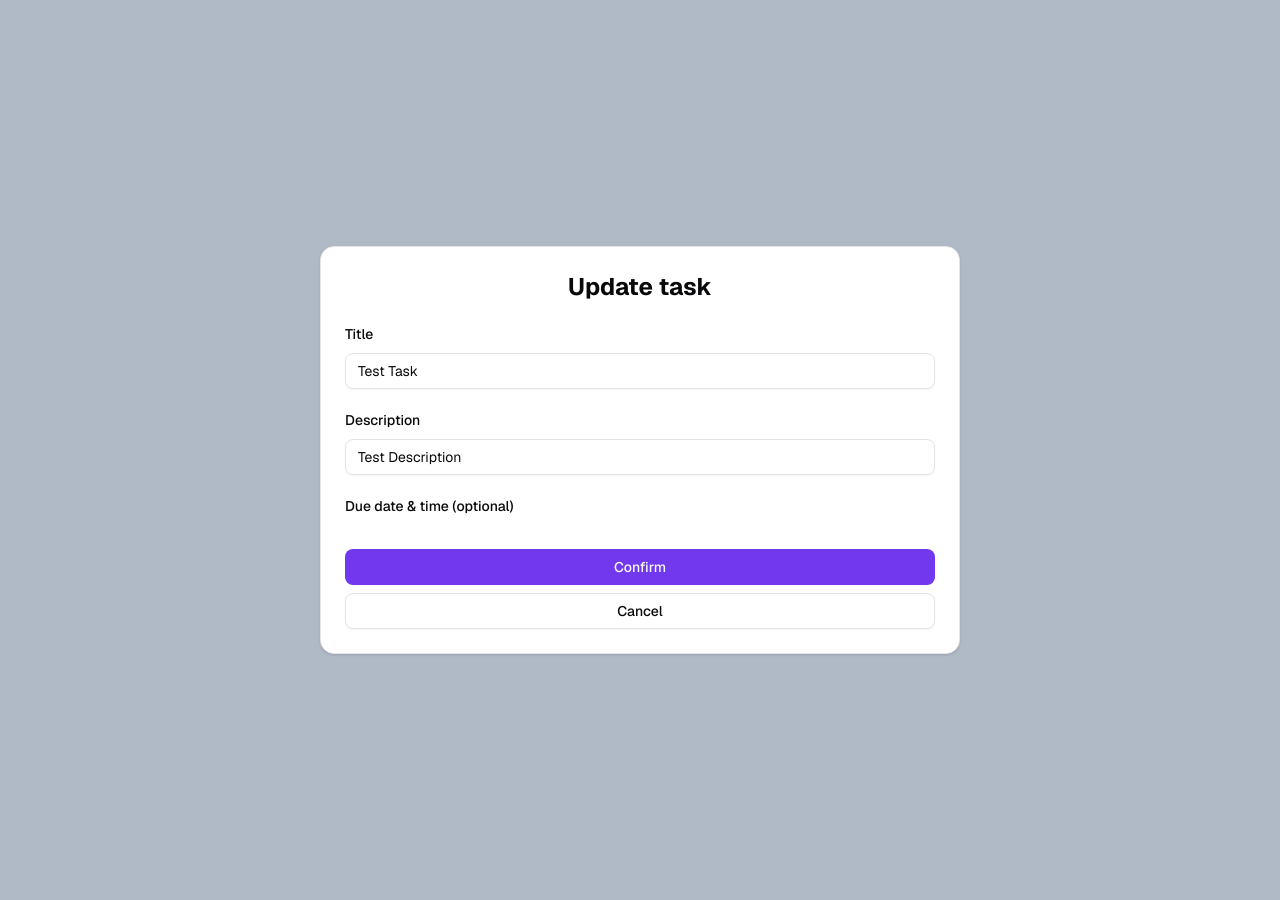
Test: EditTaskModal Component › shows validation error for empty title
Clear the field showing "Test Task". click: (640, 371)
box: [345,353,935,389]
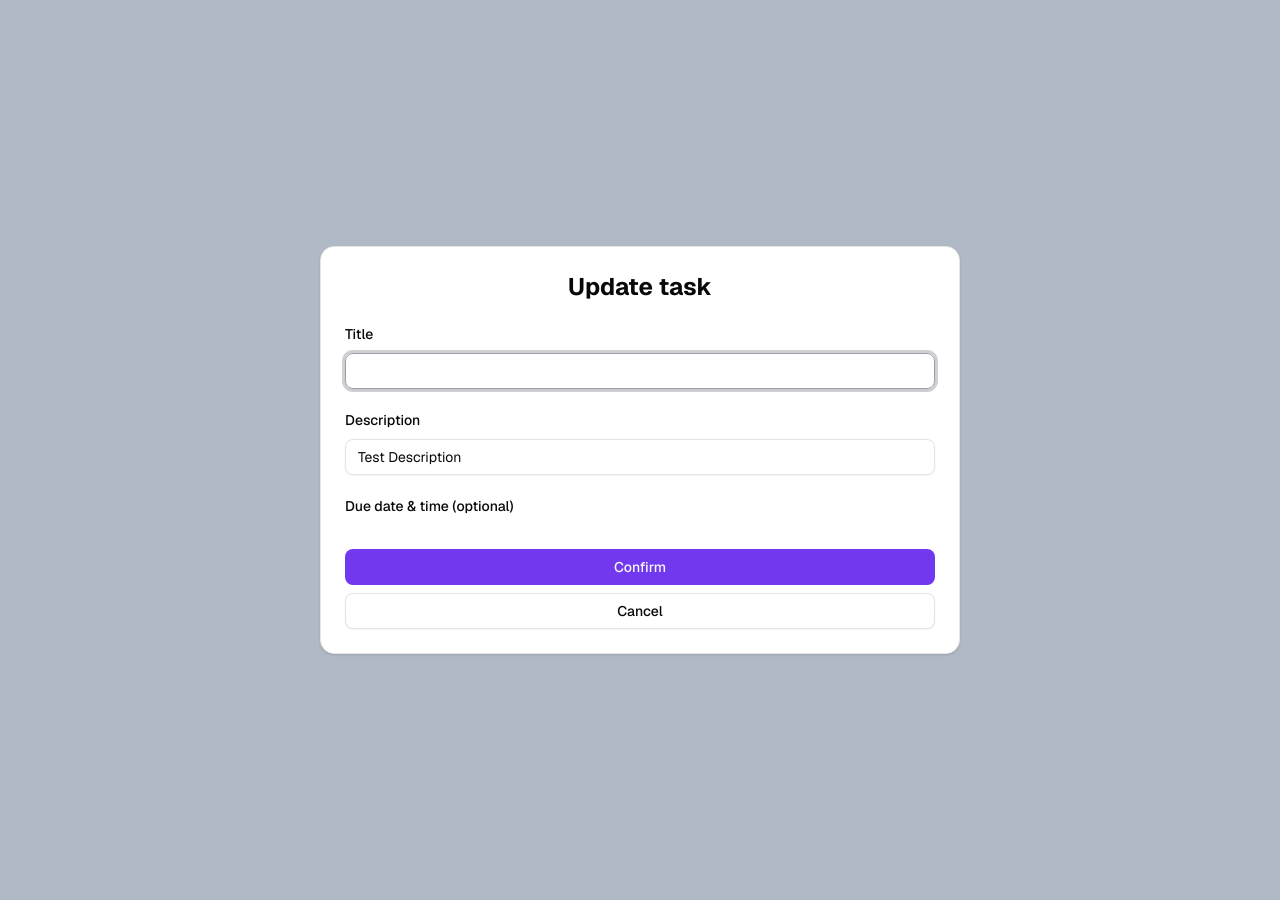
Click the button with aria-label "Confirm Edit". click: click(640, 567)
box: [345,549,935,585]
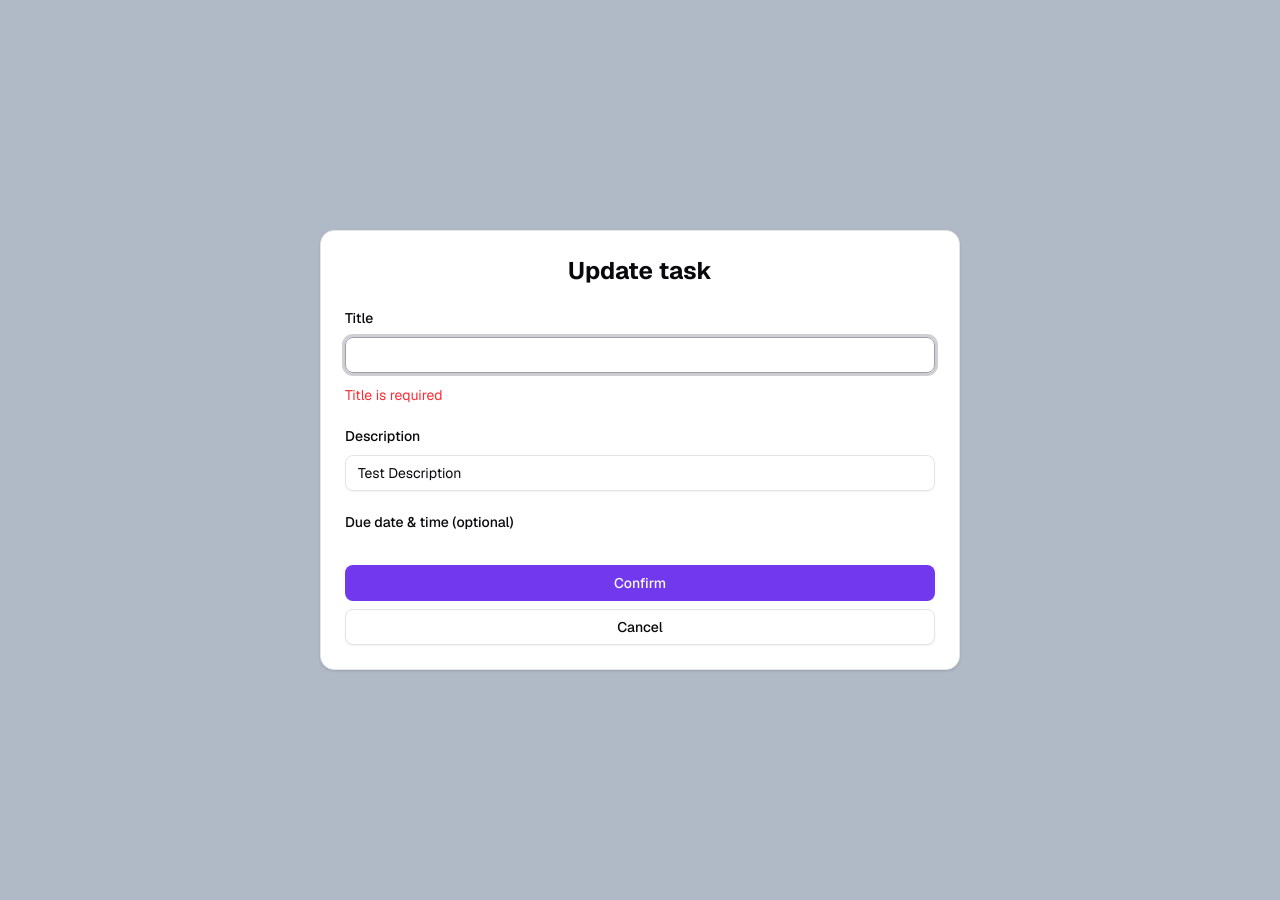
Now the text "Title is required" is shown, box [345,386,443,404]
